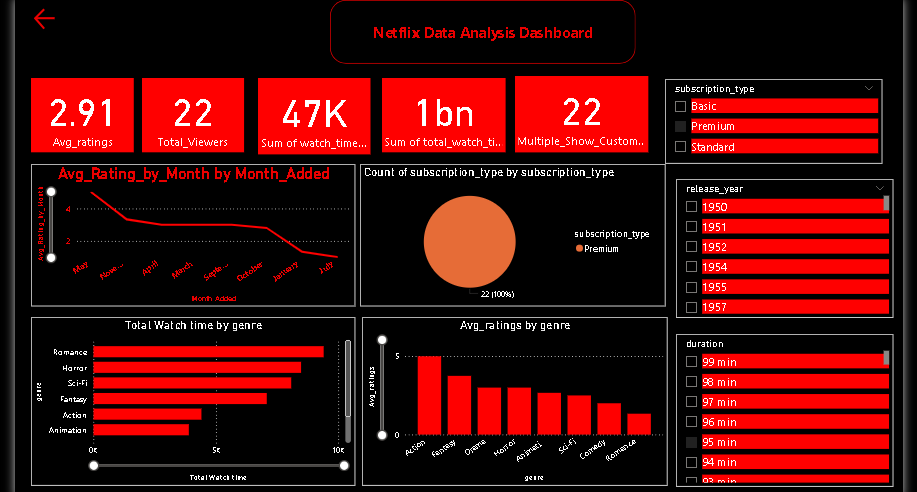

Layout of this report page (visuals, bound fields, positions):
{"tool":"powerbi","page":{"name":"Dashboard","canvas":[1280,720],"ordinal":10},"visuals":[{"type":"card","fields":{"Values":["Sum(netflix_customer_ratings_20000.total_watch_time)"]},"box":[528.3,115,178.3,106.7],"z":0},{"type":"card","fields":{"Values":["netflix_customer_ratings_20000.Avg_ratings"]},"box":[23.3,115,148.3,106.7],"z":1000},{"type":"card","fields":{"Values":["netflix_customer_ratings_20000.Total_Viewers"]},"box":[183.3,115,146.7,106.7],"z":2000},{"type":"barChart","fields":{"Y":["netflix_customer_ratings_20000.Total Watch time"],"Category":["netflix_dataset_20000 csv.genre"]},"box":[23.3,460,466.7,243.3],"z":3000},{"type":"columnChart","fields":{"Y":["netflix_customer_ratings_20000.Avg_ratings"],"Category":["netflix_dataset_20000 csv.genre"]},"box":[500,460,440,243.3],"z":4000},{"type":"pieChart","fields":{"Category":["netflix_customer_ratings_20000.subscription_type"],"Y":["CountNonNull(netflix_customer_ratings_20000.subscription_type)"]},"box":[496.7,238.3,440,205],"z":5000},{"type":"slicer","fields":{"Values":["netflix_customer_ratings_20000.subscription_type"]},"box":[936.7,116.7,313.3,121.7],"z":6000},{"type":"lineChart","fields":{"Category":["netflix_dataset_20000 csv.Month_Added"],"Y":["netflix_dataset_20000 csv.Avg_Rating_by_Month"]},"box":[23.3,238.3,466.7,205],"z":7001},{"type":"card","fields":{"Values":["Sum(netflix_customer_ratings_20000.watch_time_minutes)"]},"box":[350,115,161.7,110],"z":7002},{"type":"shape","box":[453.3,3.3,440,91.7],"z":7003},{"type":"card","fields":{"Values":["netflix_customer_ratings_20000.Multiple_Show_Customers"]},"box":[720,111.7,191.7,110],"z":7004},{"type":"slicer","fields":{"Values":["netflix_dataset_20000 csv.release_year"]},"box":[951.7,260,313.3,200],"z":7005},{"type":"slicer","fields":{"Values":["netflix_dataset_20000 csv.duration"]},"box":[951.7,483.3,313.3,220],"z":7006},{"type":"actionButton","box":[23.3,10,58.3,40],"z":7007}]}

Visuals, with their boxes in screenshot pixels (x1, y1, x2, y2):
card - Sum(netflix_customer_ratings_20000.total_watch_time): (379, 73, 503, 148)
card - netflix_customer_ratings_20000.Avg_ratings: (26, 73, 129, 148)
card - netflix_customer_ratings_20000.Total_Viewers: (138, 73, 240, 148)
barChart - netflix_customer_ratings_20000.Total Watch time x netflix_dataset_20000 csv.genre: (26, 314, 352, 484)
columnChart - netflix_customer_ratings_20000.Avg_ratings x netflix_dataset_20000 csv.genre: (359, 314, 666, 484)
pieChart - netflix_customer_ratings_20000.subscription_type x CountNonNull(netflix_customer_ratings_20000.subscription_type): (357, 159, 664, 303)
slicer - netflix_customer_ratings_20000.subscription_type: (664, 74, 883, 159)
lineChart - netflix_dataset_20000 csv.Month_Added x netflix_dataset_20000 csv.Avg_Rating_by_Month: (26, 159, 352, 303)
card - Sum(netflix_customer_ratings_20000.watch_time_minutes): (254, 73, 367, 150)
shape: (326, 0, 634, 59)
card - netflix_customer_ratings_20000.Multiple_Show_Customers: (513, 71, 646, 148)
slicer - netflix_dataset_20000 csv.release_year: (674, 174, 893, 314)
slicer - netflix_dataset_20000 csv.duration: (674, 330, 893, 484)
actionButton: (26, 0, 67, 28)
